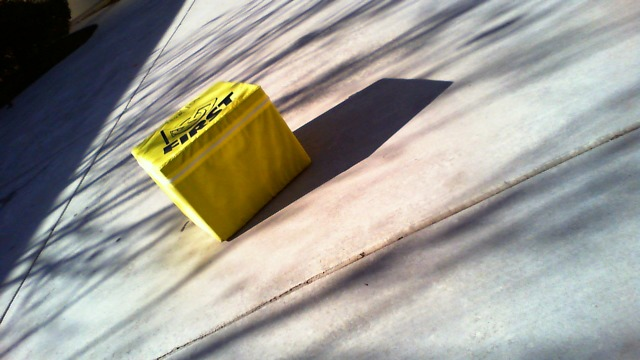cube: (131, 79, 314, 243)
